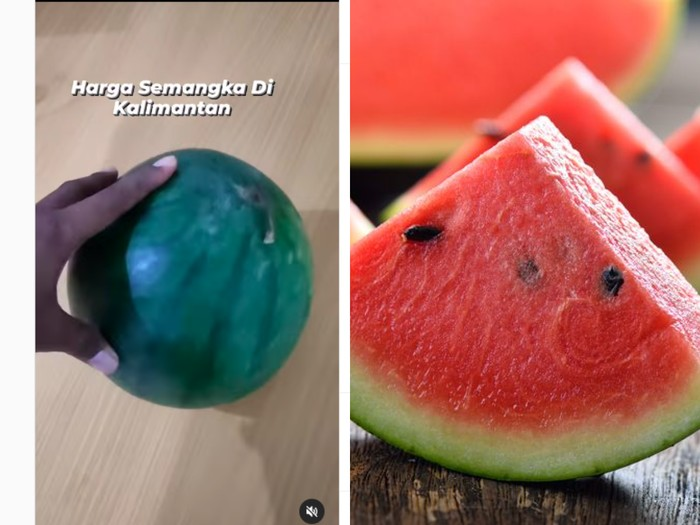Semangka: (356, 156, 697, 520)
